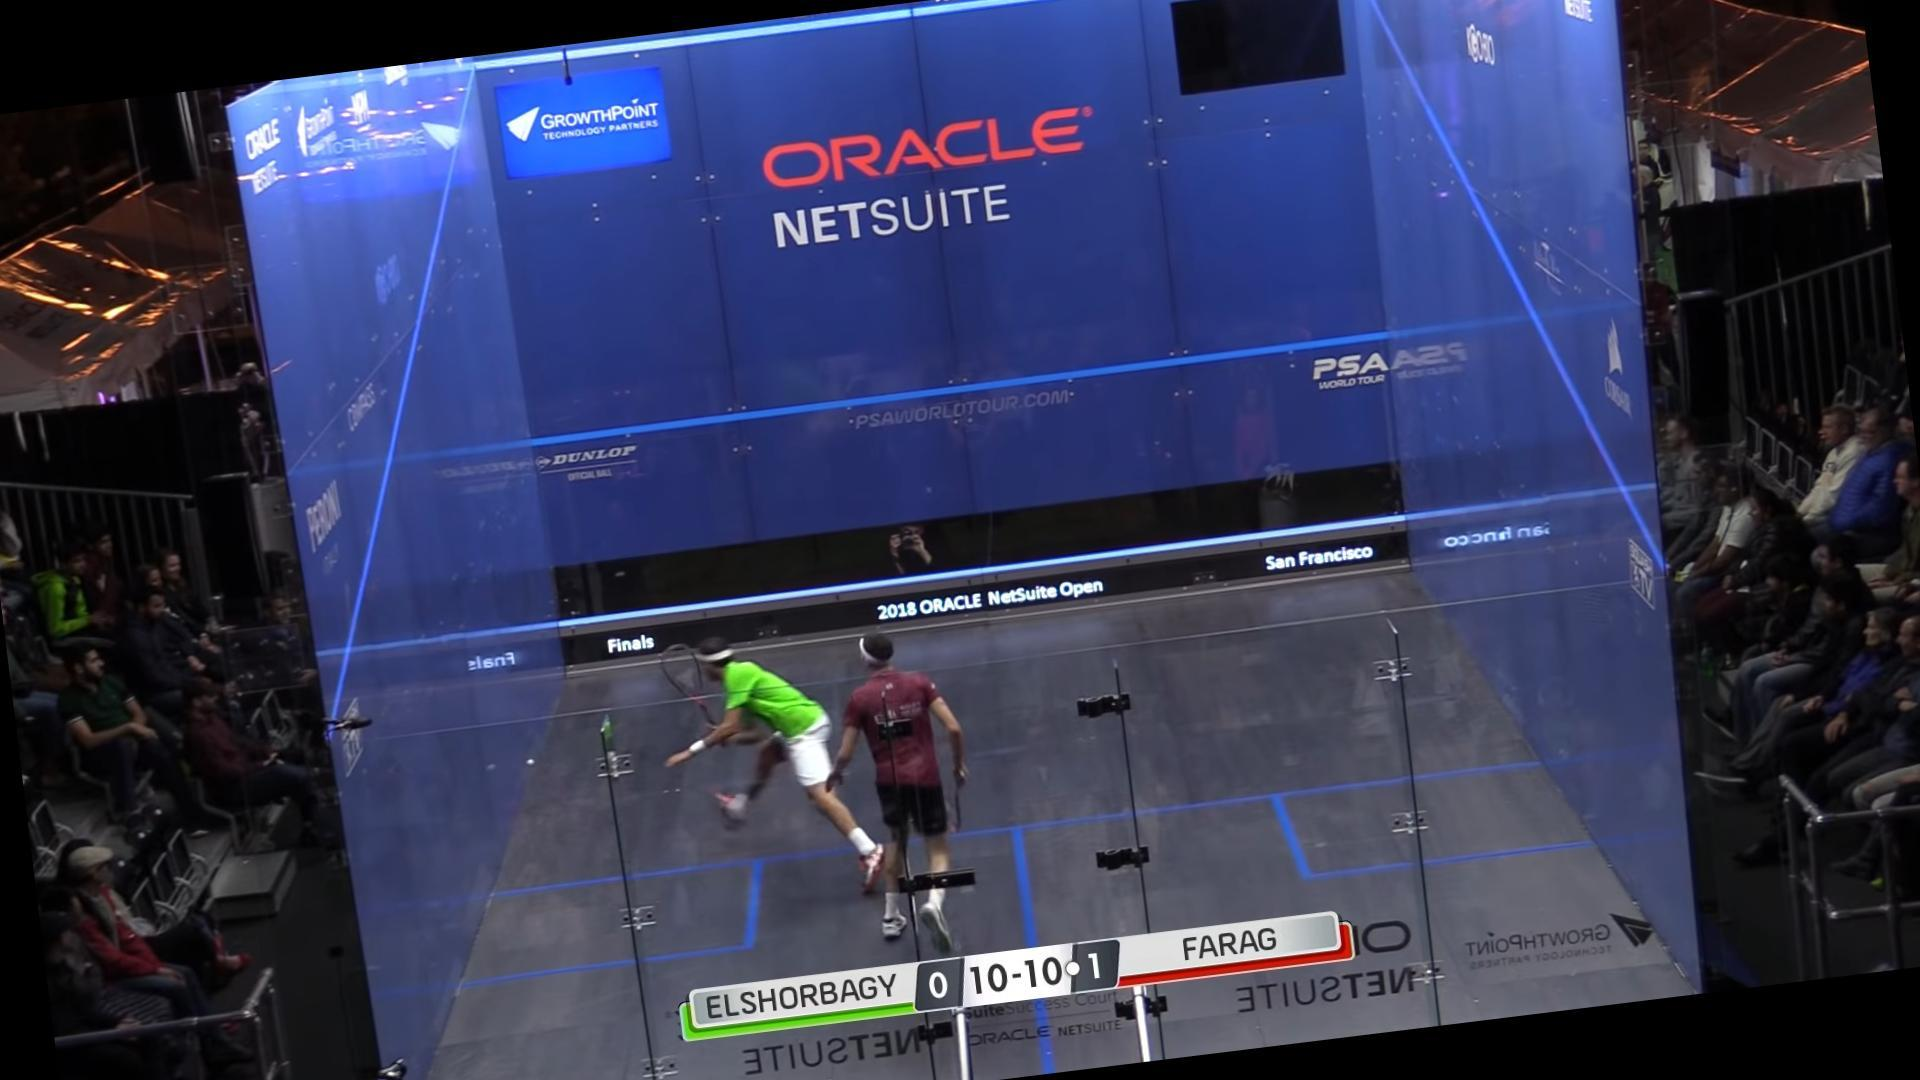Squash-Ball: (520, 746, 550, 778)
